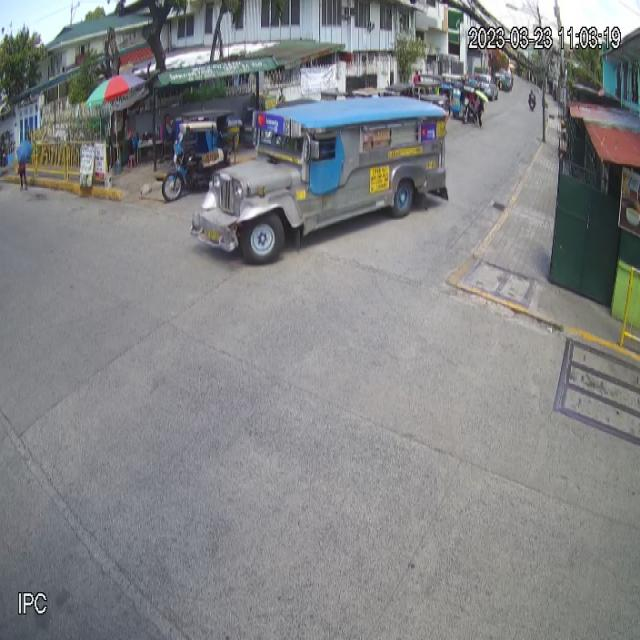Jeep: (191, 91, 449, 264)
Tricycle: (160, 106, 241, 203)
